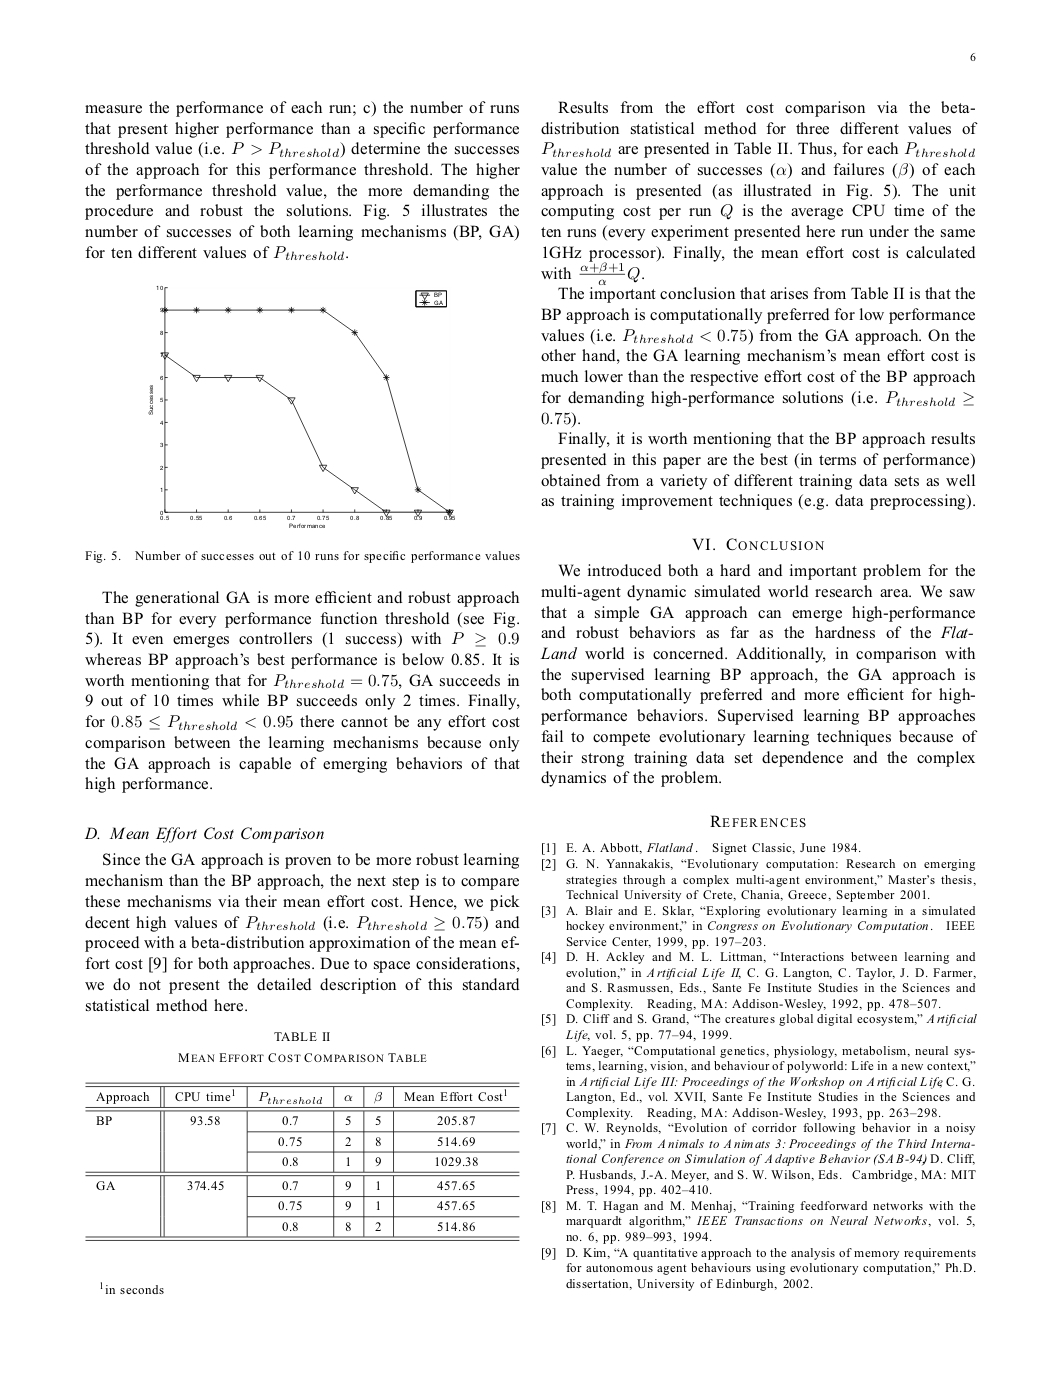Table: (85, 1081, 519, 1241)
figure: (148, 285, 454, 527)
formula: (541, 262, 643, 284)
